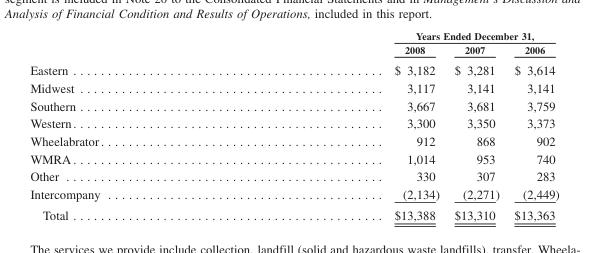table: (29, 29, 558, 222)
table column: (29, 29, 248, 222), (248, 29, 446, 222), (446, 29, 506, 222), (506, 29, 558, 222)
table column header: (29, 29, 558, 58)
table row: (29, 58, 558, 78), (29, 184, 558, 204), (29, 78, 558, 96), (29, 96, 558, 114), (29, 131, 558, 149), (29, 149, 558, 167), (29, 204, 558, 222), (29, 114, 558, 131), (29, 167, 558, 184), (29, 42, 558, 58), (29, 29, 558, 42)
table spanning cell: (248, 29, 558, 42)
